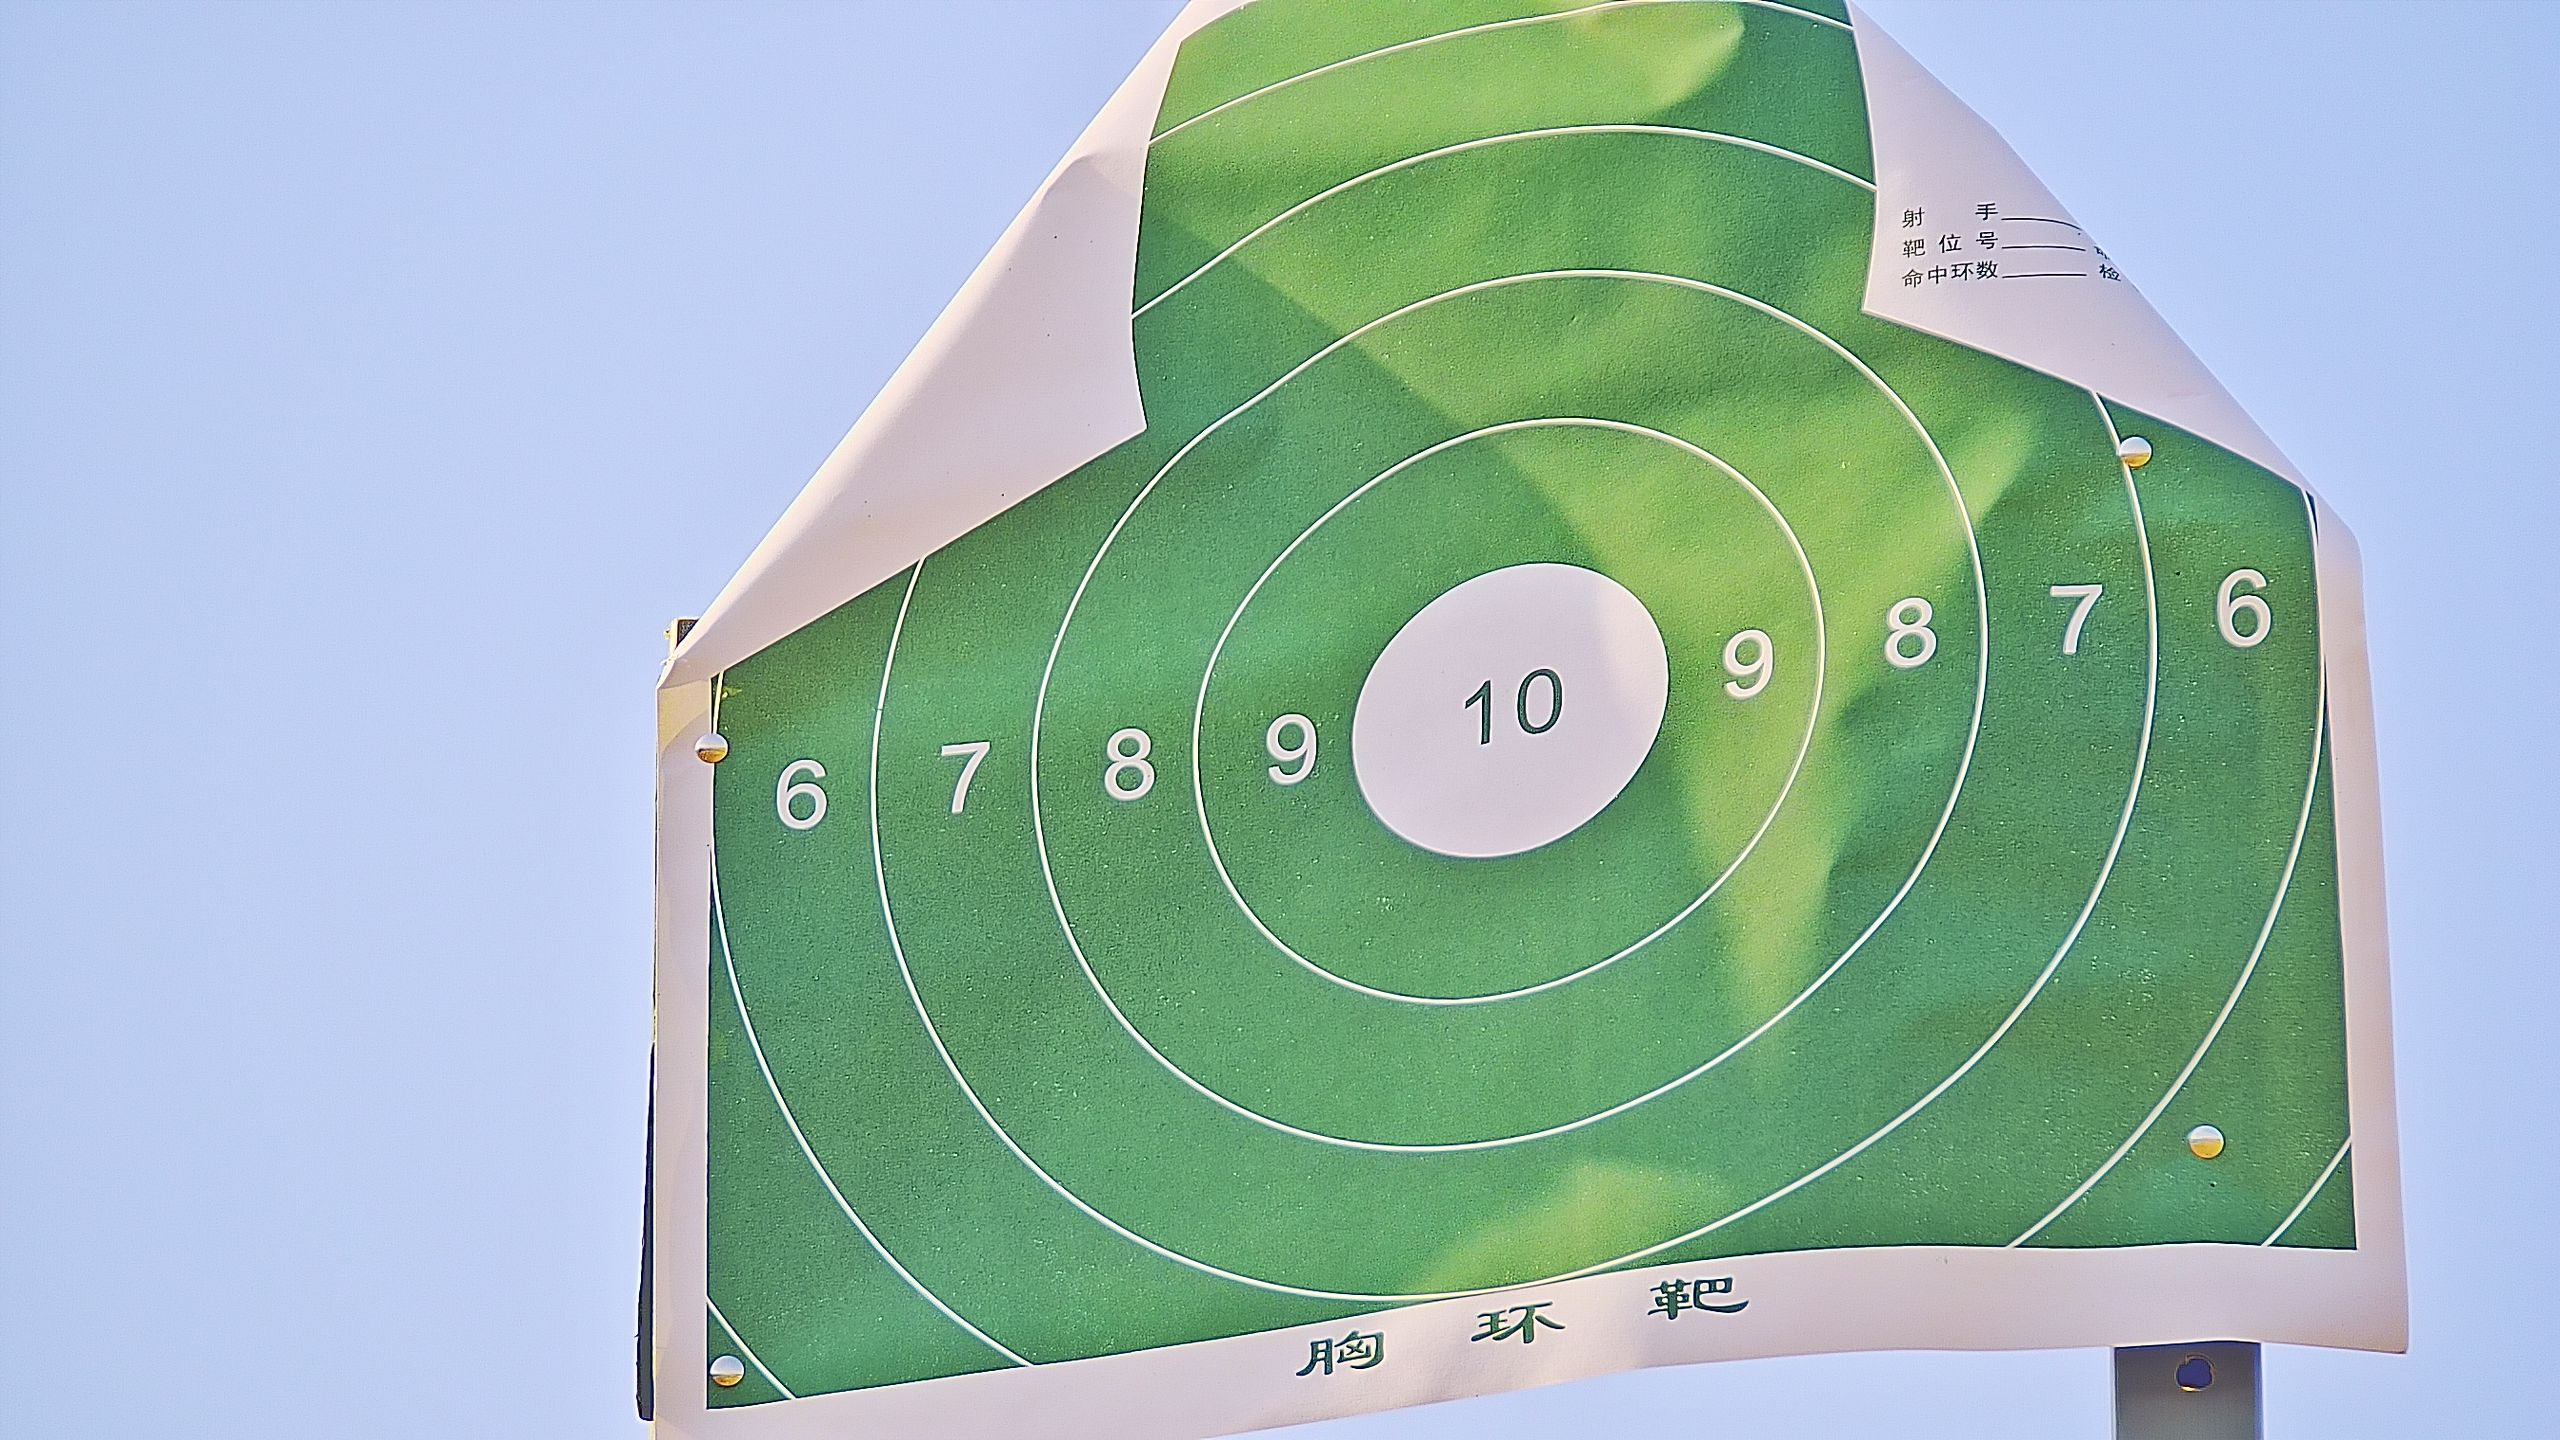kernel: (1505, 710, 1512, 716)
target: (709, 2, 2365, 1412)
ten: (1350, 563, 1663, 863)
